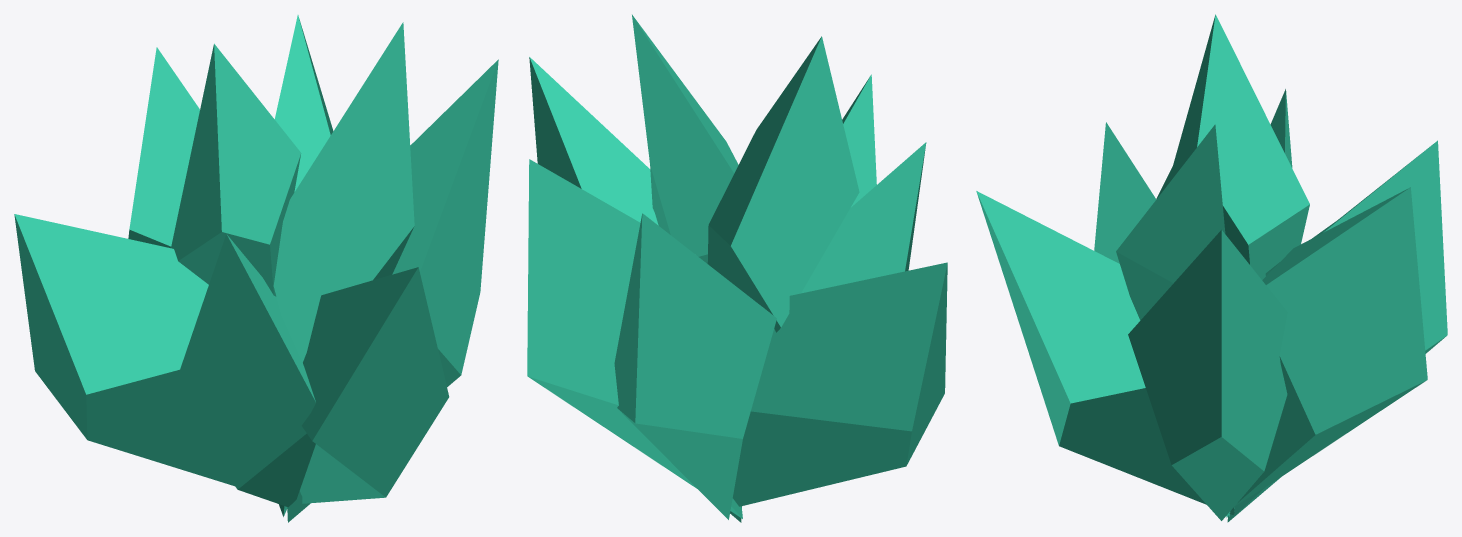
The model's file is babyAlgae.fbx.
The picture shows the model from 3 angles, left to right: view 1: azimuth 30°, elevation 25°; view 2: azimuth 150°, elevation 25°; view 3: azimuth 270°, elevation 25°; orthographic projection. The views are drawn at different scales.
Visible parts, largest first — view 1: algaeLeaf; view 2: algaeLeaf; view 3: algaeLeaf.
Part boxes in pixels (x1,y1,x2,y2): algaeLeaf: (14,15,498,522); algaeLeaf: (527,14,947,522); algaeLeaf: (976,14,1447,522).
Bounding box in the file's own units: 63.04 × 67 × 60.68.
